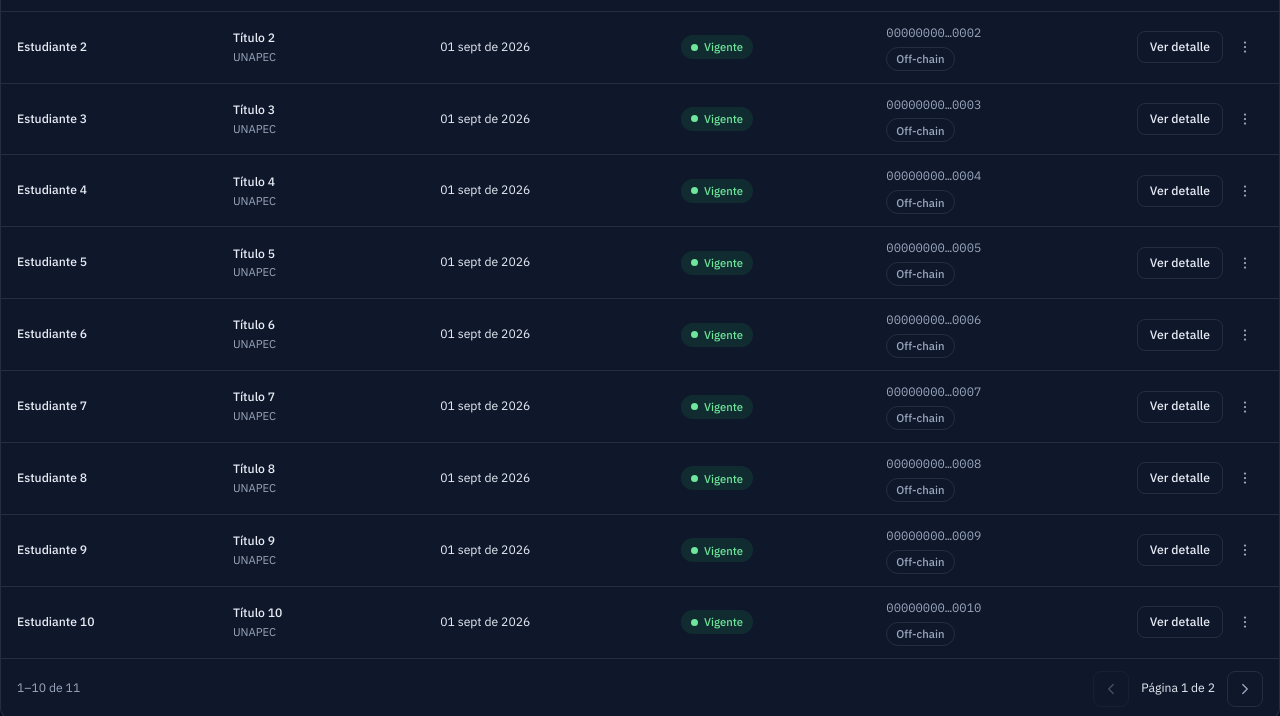
it: certificate management › lists with server-side pagination, sorting and debounced search
Later steps or results of the test are not shown.
(page scrolled)
expect the text "1–10 de 11" is shown: met, box x1=17 y1=679 x2=80 y2=698
Click the button named "Página siguiente": (1245, 689) x1=1227 y1=671 x2=1263 y2=707
(page scrolled)
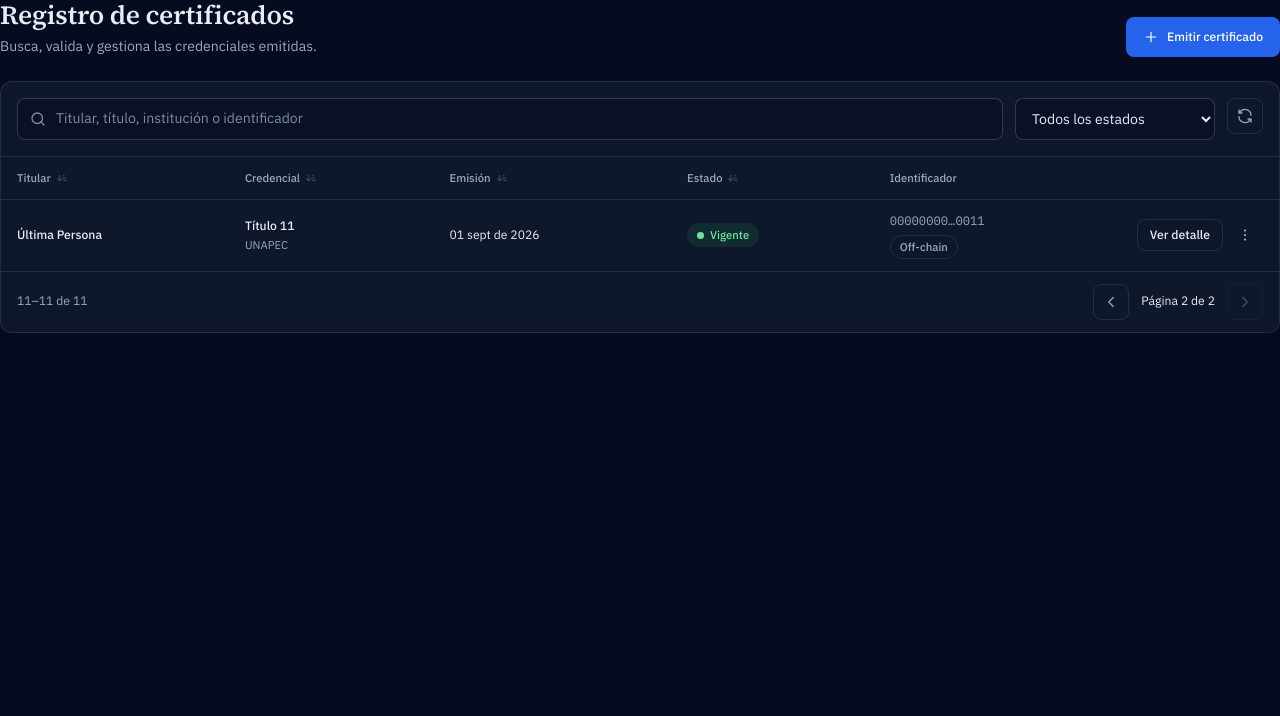
expect the button named "Página siguiente" is disabled: met, box x1=1227 y1=284 x2=1263 y2=320
expect the text "Última Persona" is shown: met, box x1=17 y1=227 x2=102 y2=242
Click the button "Titular": (43, 178) x1=17 y1=169 x2=69 y2=187
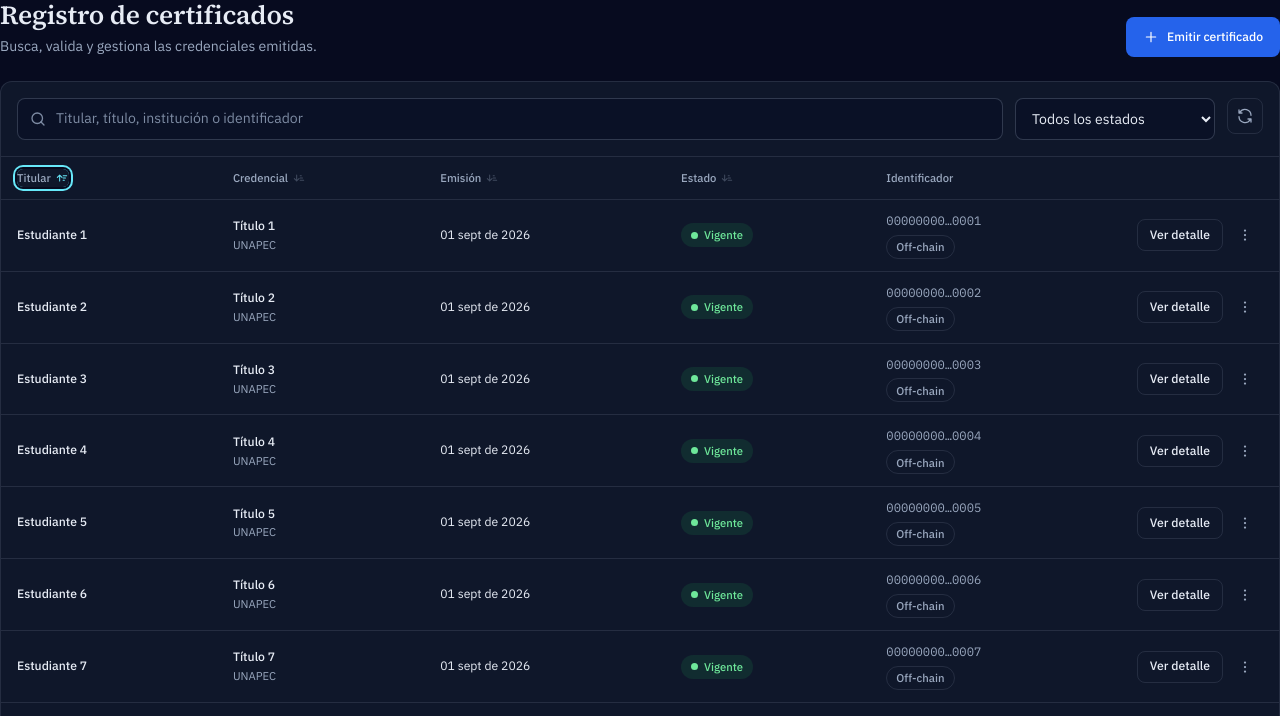
expect the column heading "Titular" has attribute aria-sort="ascending": met, box x1=1 y1=157 x2=217 y2=199
